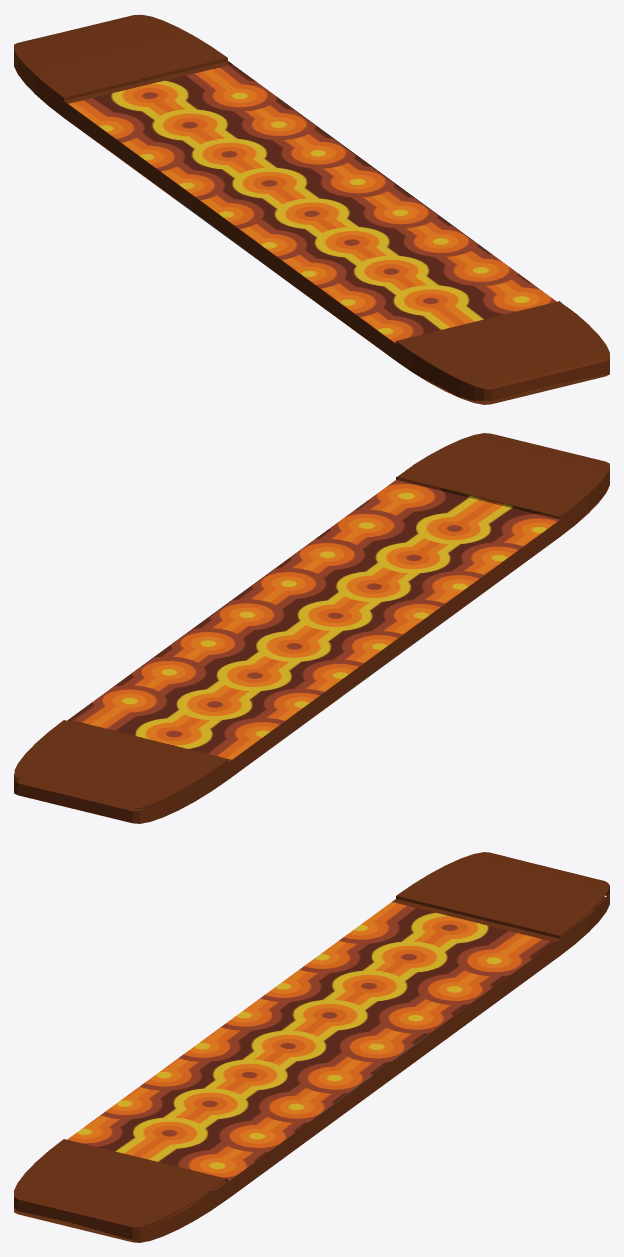
File: Plank.fbx
The picture shows the model from 3 angles, top to bottom: view 1: azimuth 30°, elevation 25°; view 2: azimuth 150°, elevation 25°; view 3: azimuth 330°, elevation 25°; orthographic projection.
Visible parts, largest first — view 1: Cube; view 2: Cube; view 3: Cube.
Part boxes in pixels (bbox=[...]): Cube: bbox=[14, 14, 609, 404]; Cube: bbox=[14, 433, 609, 823]; Cube: bbox=[14, 852, 609, 1242].
Bounding box in the file's own units: 200 × 46.24 × 1000.
1 material, 1 textured.
